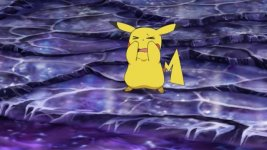pikachu: (108, 17, 189, 94)
